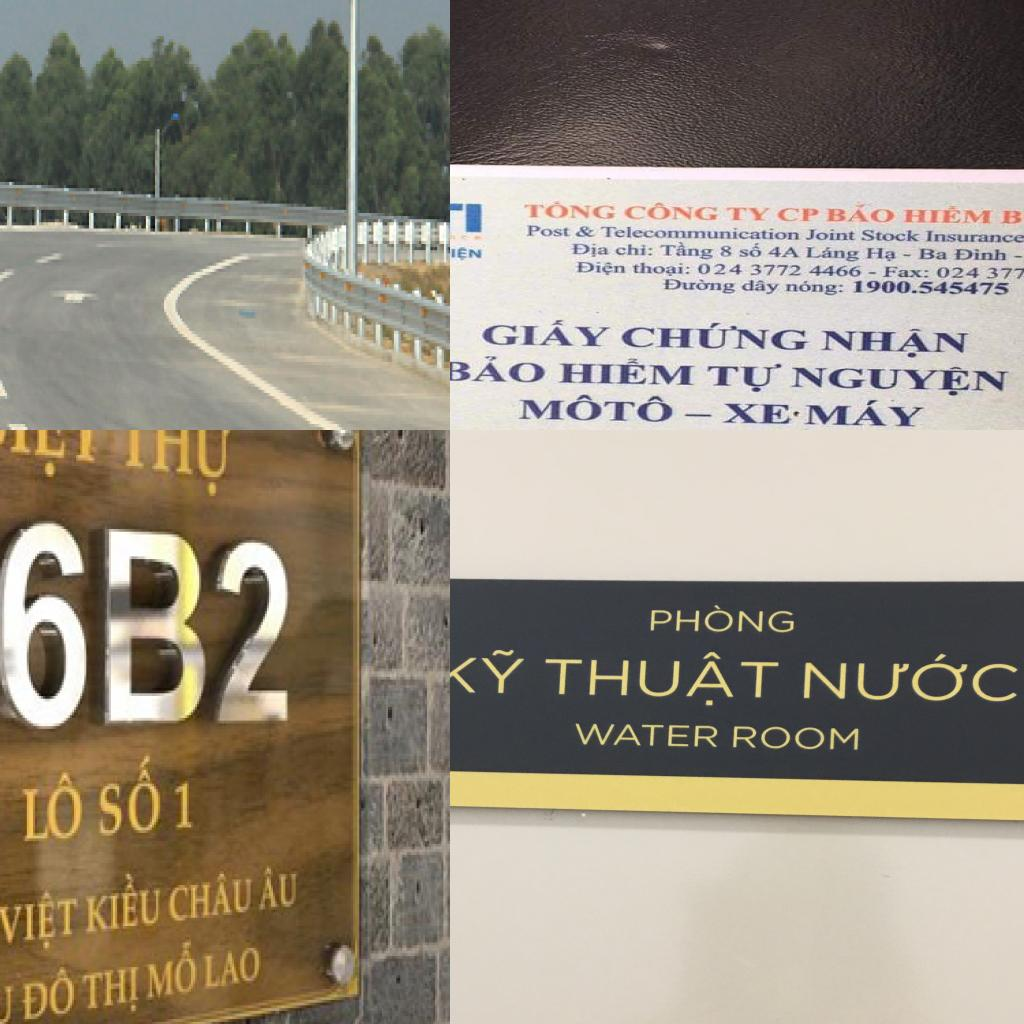text: (96, 510, 218, 742), (0, 504, 90, 747), (207, 521, 302, 734), (672, 670, 748, 850), (674, 488, 743, 655), (115, 430, 242, 504), (789, 364, 1013, 398), (0, 430, 111, 490), (0, 885, 84, 961), (96, 756, 166, 847), (618, 321, 814, 353), (18, 762, 90, 846), (80, 871, 166, 940), (166, 866, 259, 928), (514, 391, 678, 426), (819, 326, 971, 360), (554, 356, 699, 389), (668, 856, 732, 930), (609, 659, 651, 770), (80, 956, 143, 1024), (479, 318, 616, 348), (146, 937, 203, 1008), (801, 399, 930, 429), (768, 716, 803, 826), (26, 959, 80, 1024), (598, 226, 801, 242), (450, 353, 550, 385), (168, 767, 210, 841), (254, 858, 302, 918), (849, 280, 1013, 297), (695, 263, 866, 279), (703, 362, 785, 394), (522, 199, 618, 221), (623, 202, 721, 223), (900, 205, 995, 225), (720, 402, 794, 426), (823, 203, 897, 225), (923, 229, 1024, 244), (935, 266, 1024, 282), (660, 278, 738, 296), (450, 201, 486, 234), (804, 244, 863, 264), (784, 279, 846, 298), (658, 242, 716, 262), (575, 260, 631, 279), (632, 261, 694, 278), (859, 228, 923, 243), (952, 247, 1009, 263), (724, 206, 774, 223), (882, 265, 931, 281), (804, 228, 859, 242), (568, 242, 613, 259), (740, 279, 782, 297), (774, 207, 821, 223), (524, 224, 574, 238), (614, 243, 656, 258), (450, 246, 486, 263), (864, 246, 900, 263), (766, 245, 803, 261), (737, 242, 765, 259), (999, 207, 1024, 225), (918, 247, 950, 261), (574, 225, 596, 239), (718, 245, 735, 259)
